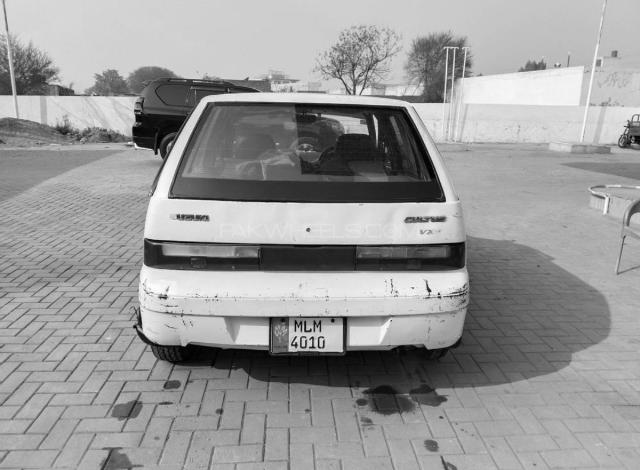Number: (292, 320, 328, 352)
